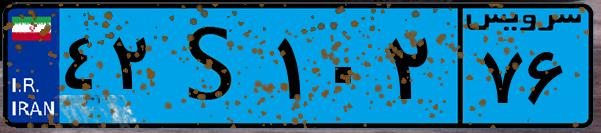0: (330, 28, 385, 110)
1: (270, 28, 330, 110)
2: (385, 28, 445, 110), (110, 28, 158, 98)
4: (57, 26, 110, 100)
6: (525, 38, 570, 115)
7: (475, 38, 525, 113)
S: (158, 12, 270, 120)
